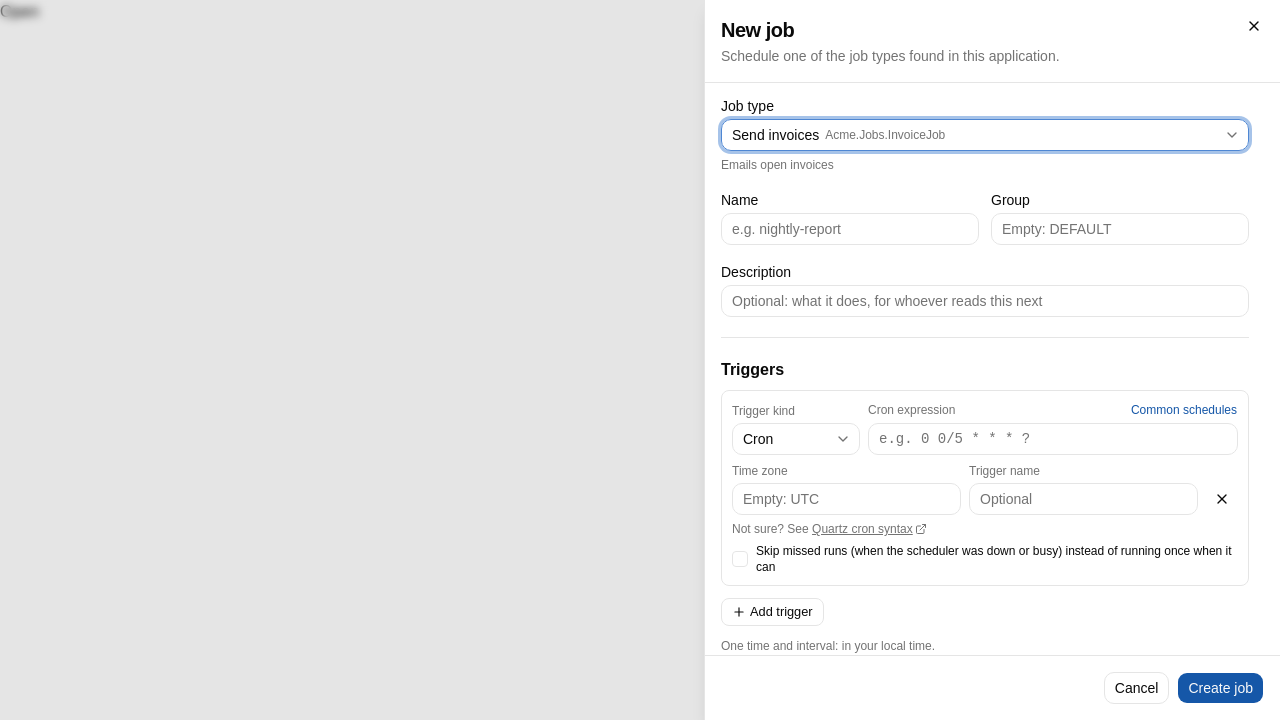
Test case: CreateJobSheet › cannot be created while a cron expression is shown as invalid
This screenshot has width=1280, height=720.
Type "invoices" into the field labelled "Name".
click(850, 229); type("invoices")  # box [721,213,979,245]
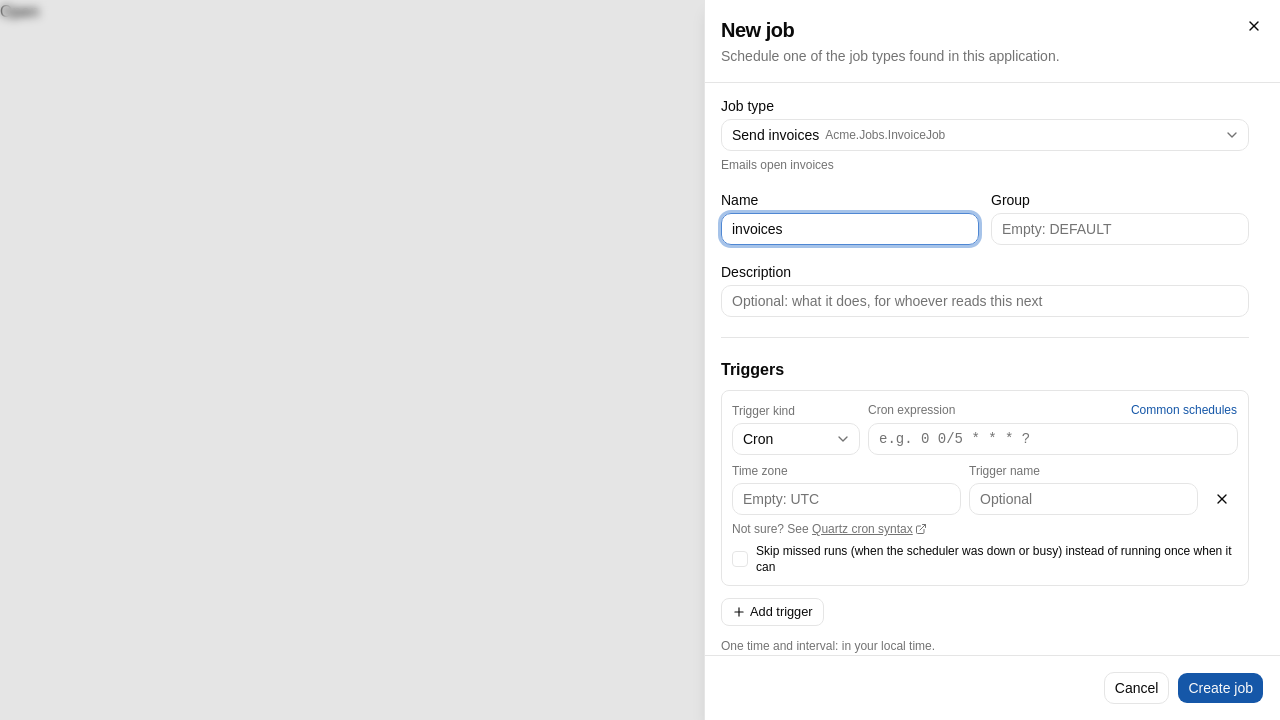
Type "0/30 * * * *" into the field labelled "Cron expression".
click(1053, 439); type("0/30 * * * *")  # box [868,423,1238,455]
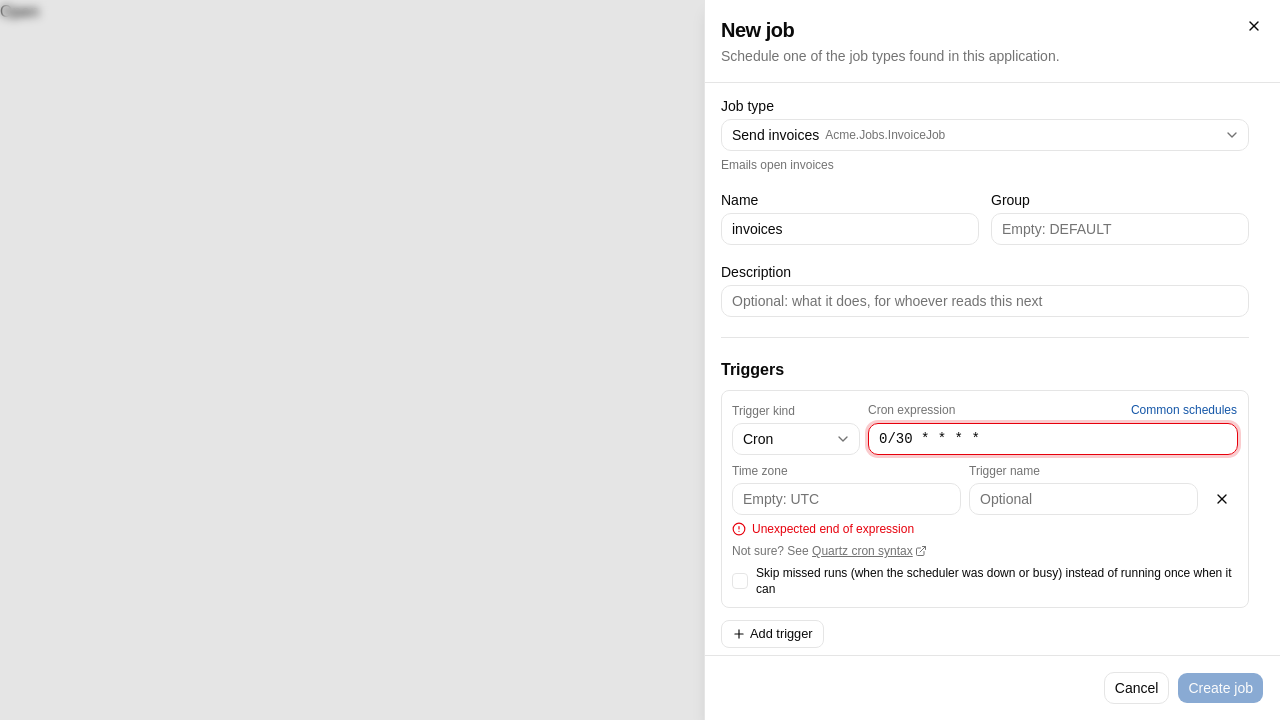
Expected: the text "Unexpected end of expression" is shown, [732,522,914,536]
Expected: the button "Create job" is disabled, [1177,672,1264,704]
